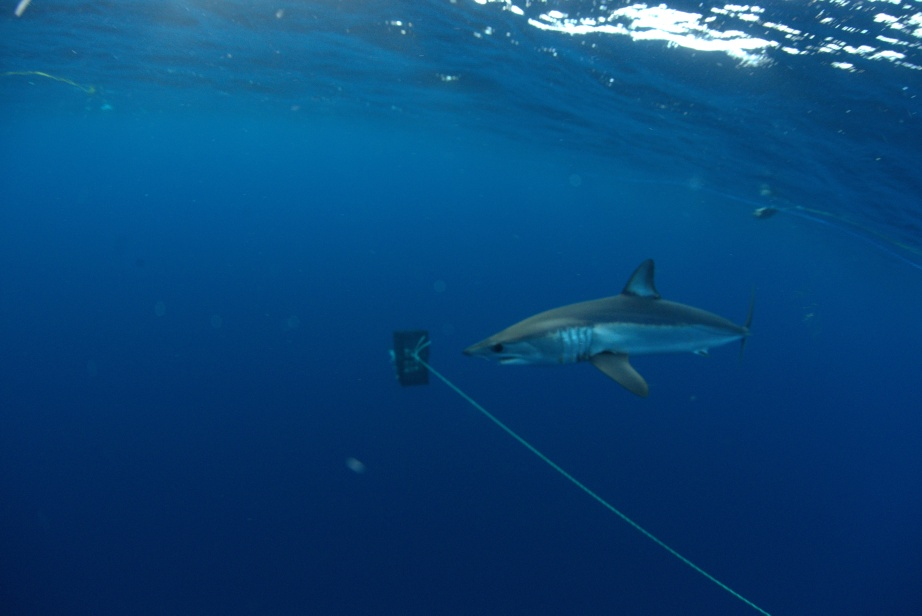Mako: (461, 250, 791, 405)
